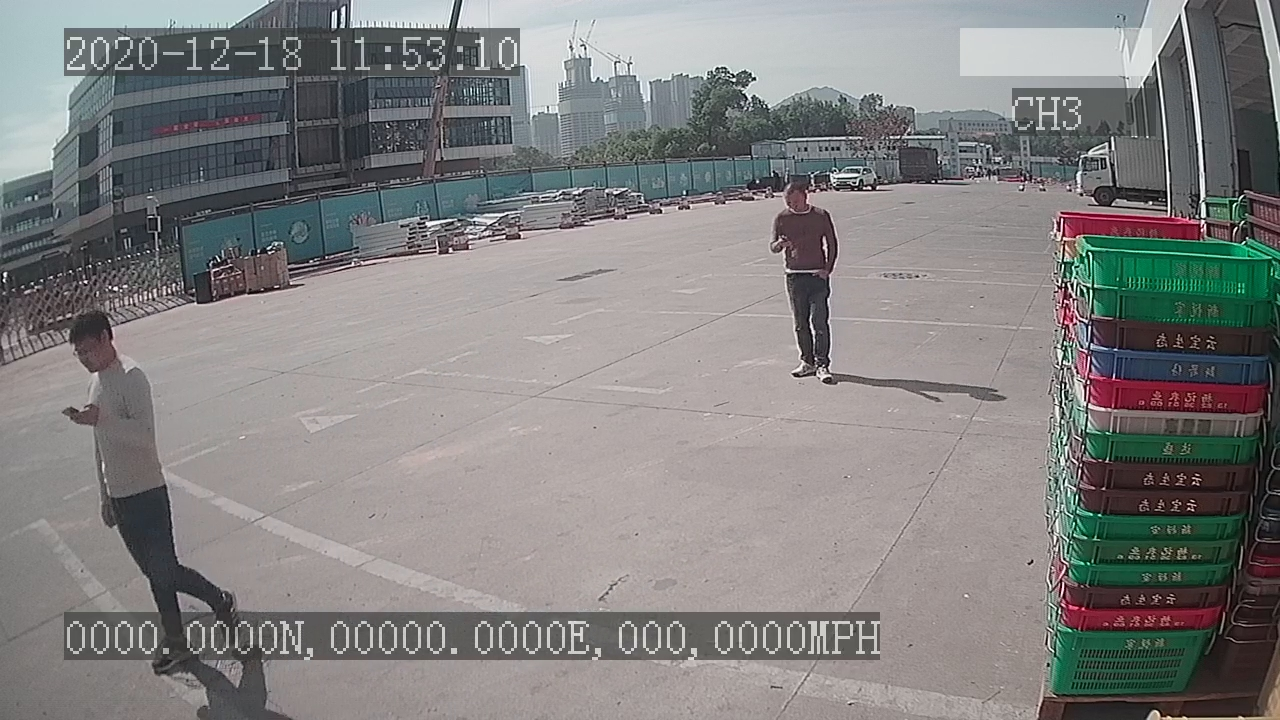person: (759, 172, 840, 390)
